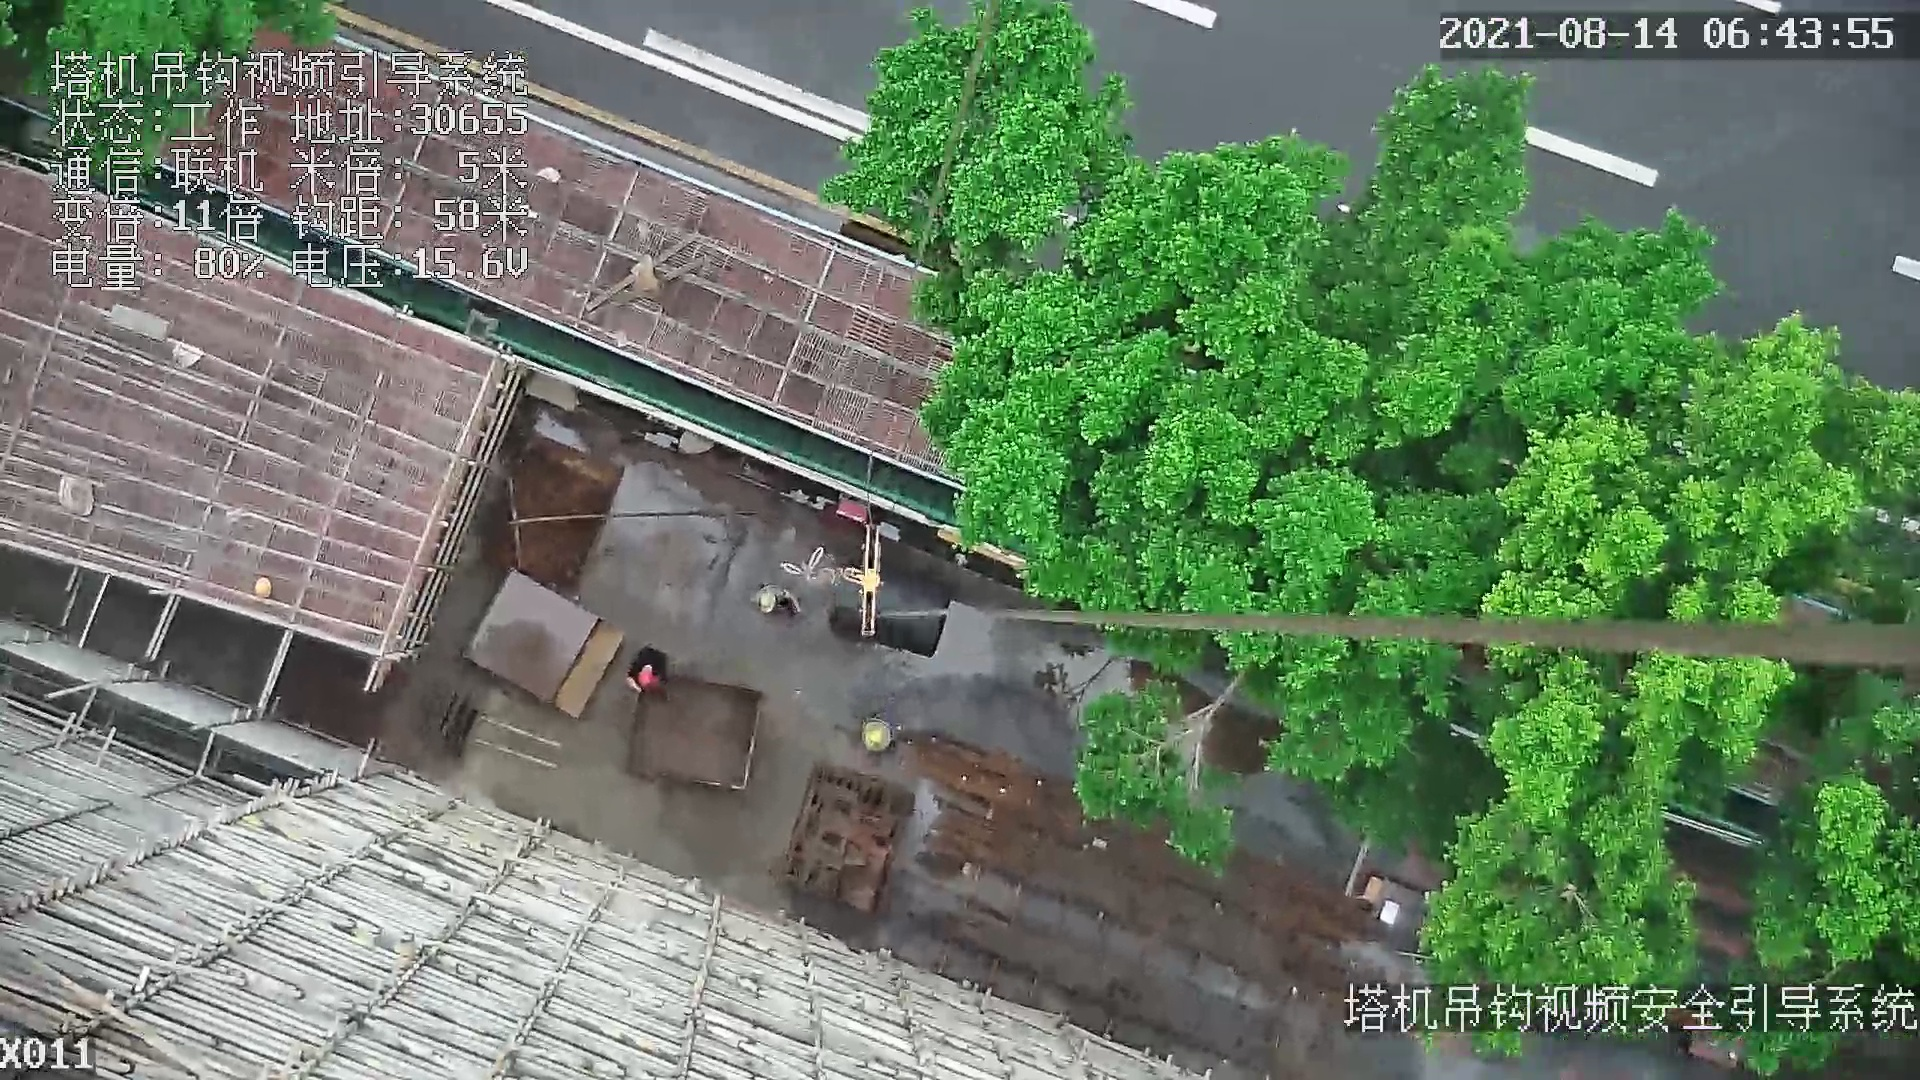helmet: (247, 576, 273, 602), (760, 594, 780, 613), (870, 728, 886, 743), (638, 672, 652, 690)
hook: (842, 527, 887, 641)
person: (747, 580, 815, 627), (859, 705, 906, 756), (627, 646, 665, 697)
